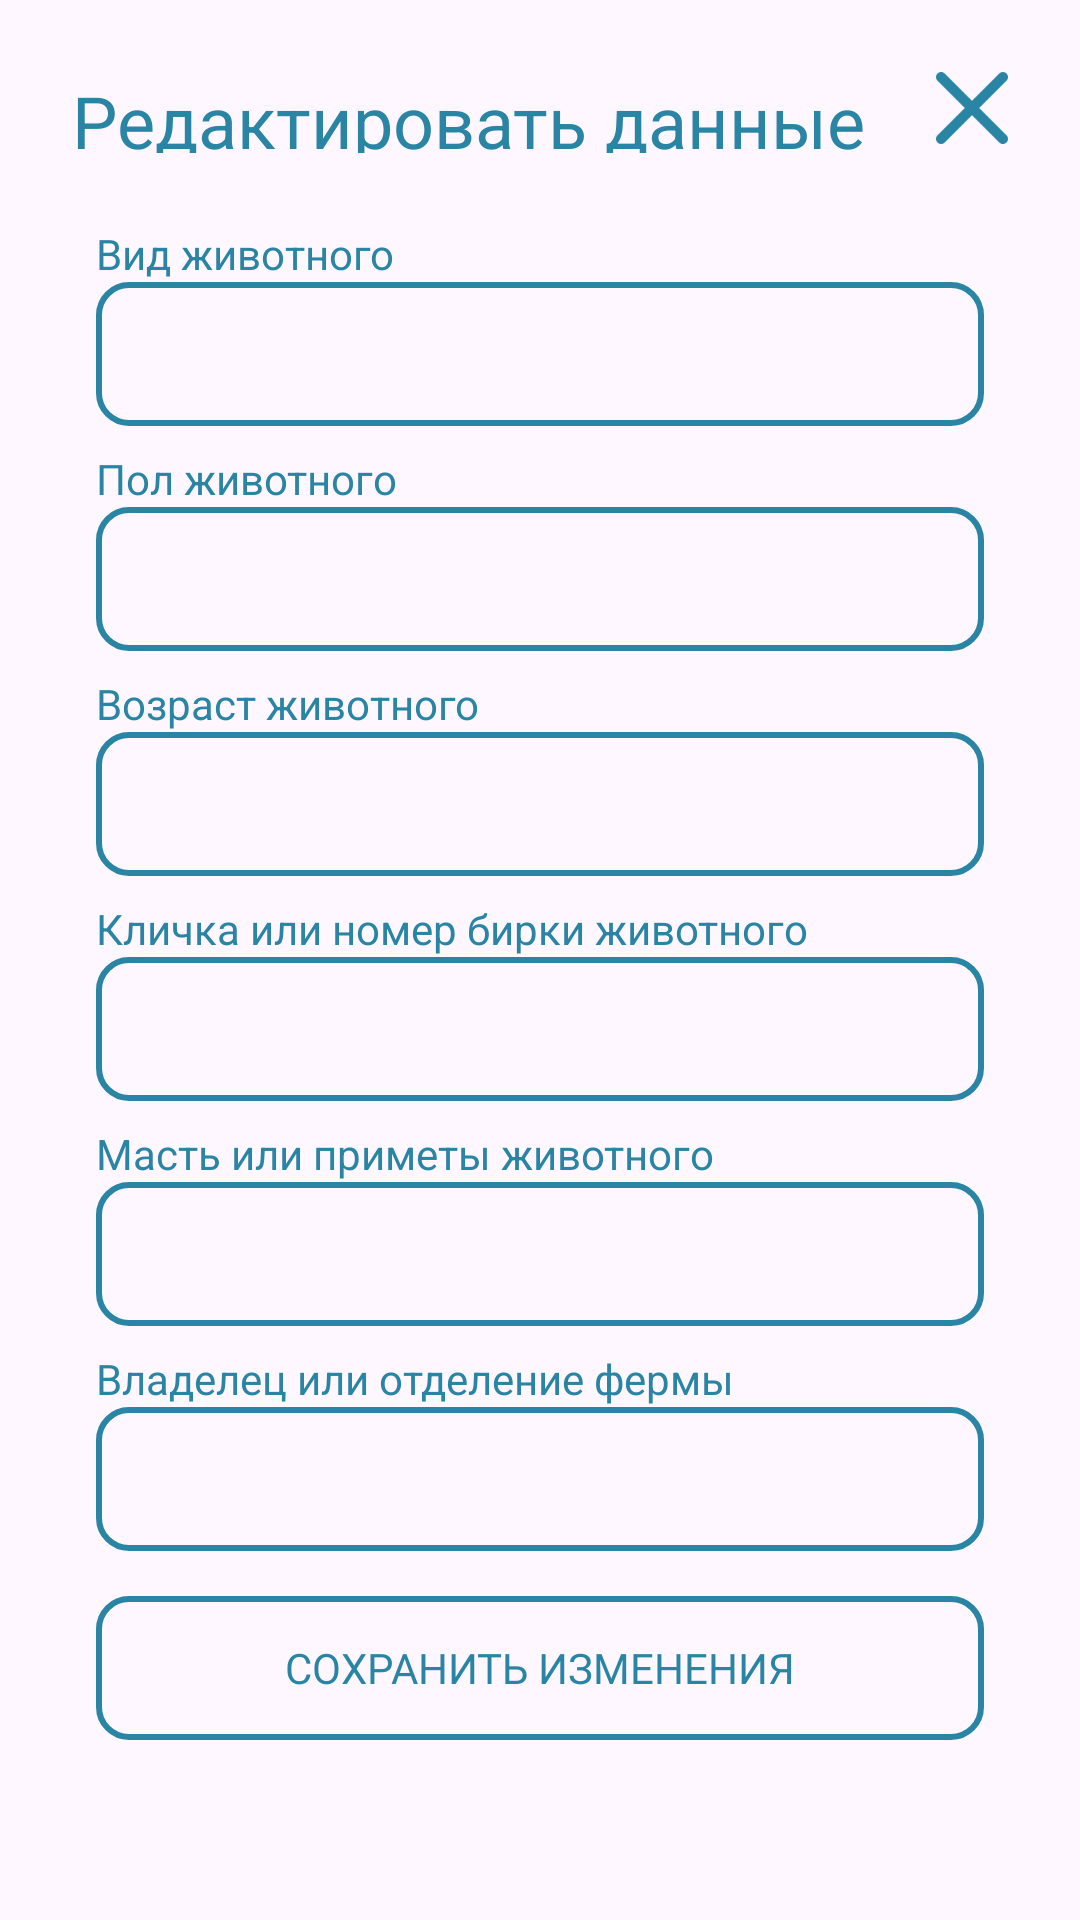

Where to tap for icons on this 1080px×1920px app screen, as point (x, y):
close: point (972, 108)
